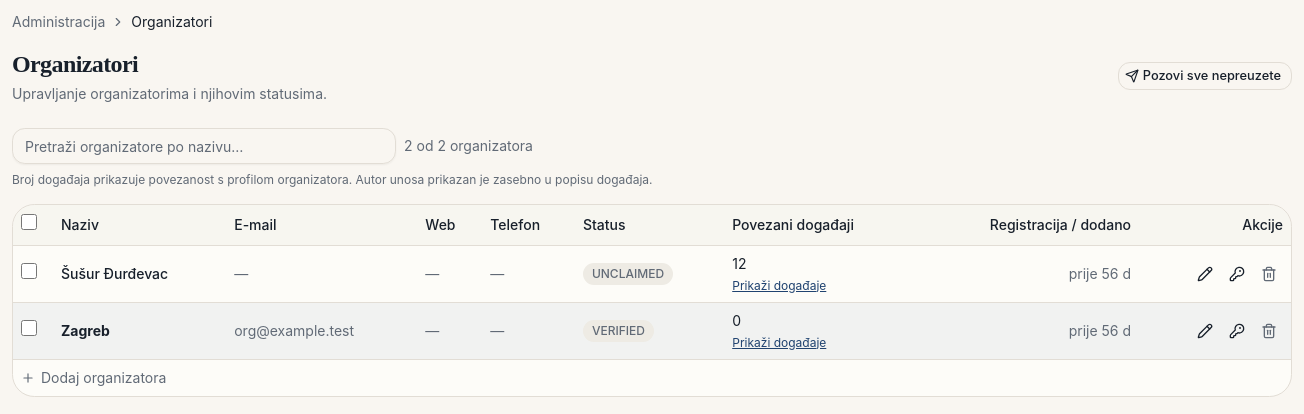
Scenario: organizer list › opens an individual editor without reloading/unmounting the list or repeating reads
Click the button named "Uredi" in the row of "Zagreb" at (1205, 330), box [1191, 316, 1219, 344]
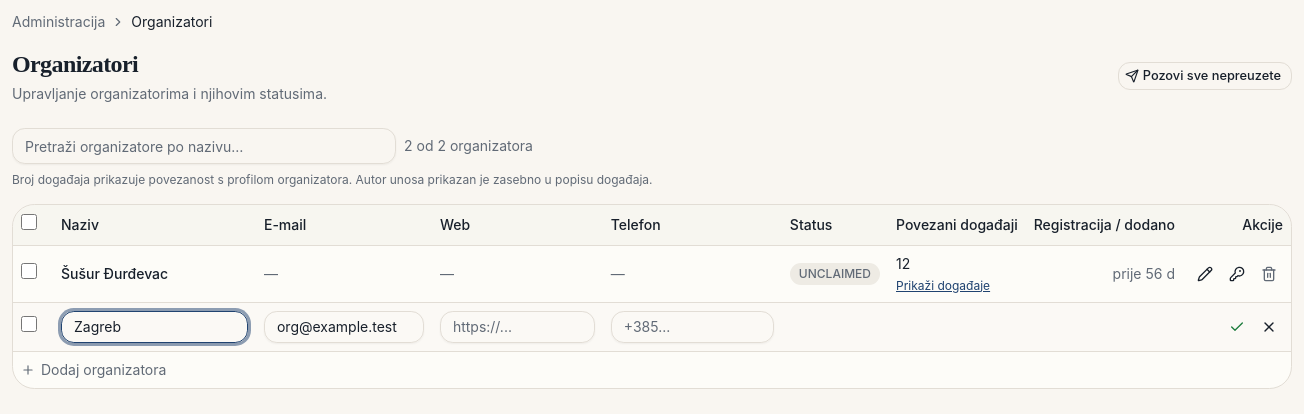
Expected: the 2nd field is shown, [61, 310, 248, 342]
